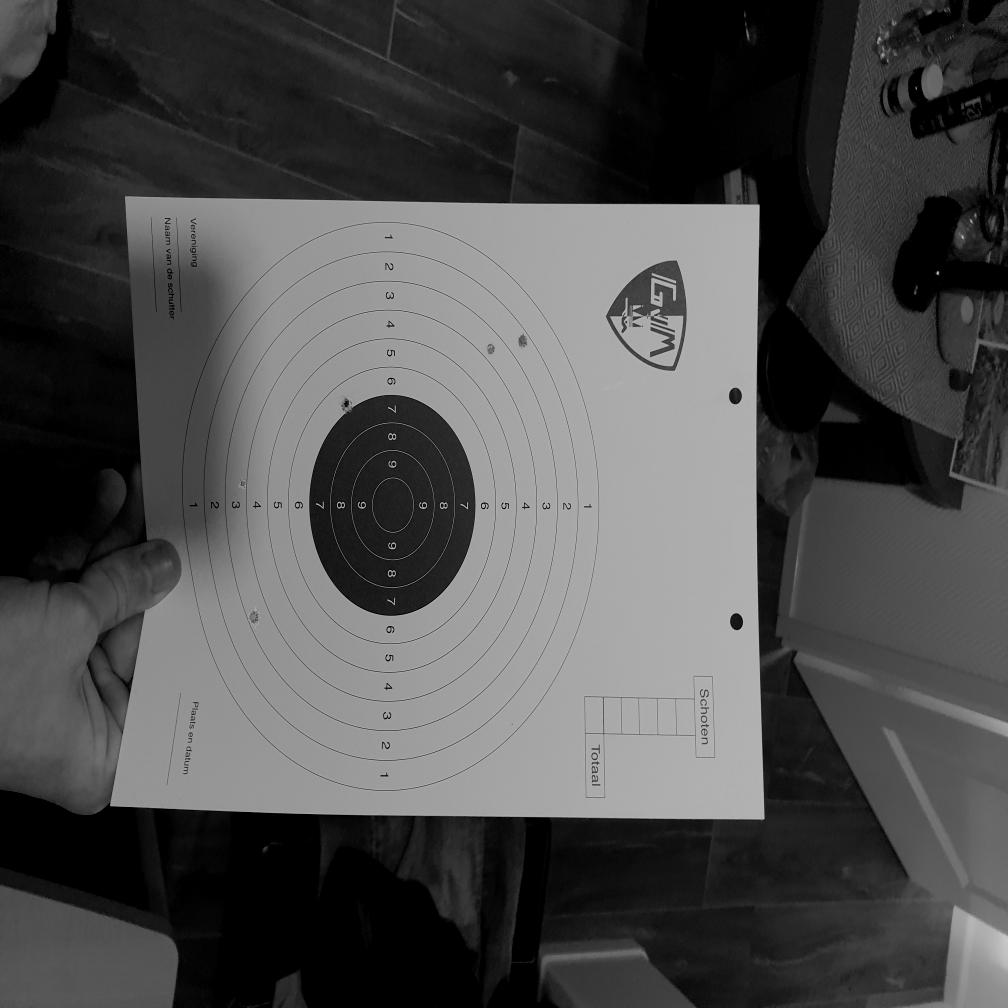2: (518, 333, 529, 350)
3: (248, 609, 260, 626), (486, 342, 496, 356), (238, 477, 247, 490)
7: (340, 396, 354, 414)
Target: (183, 223, 600, 794)
black_contour: (309, 395, 475, 618)
